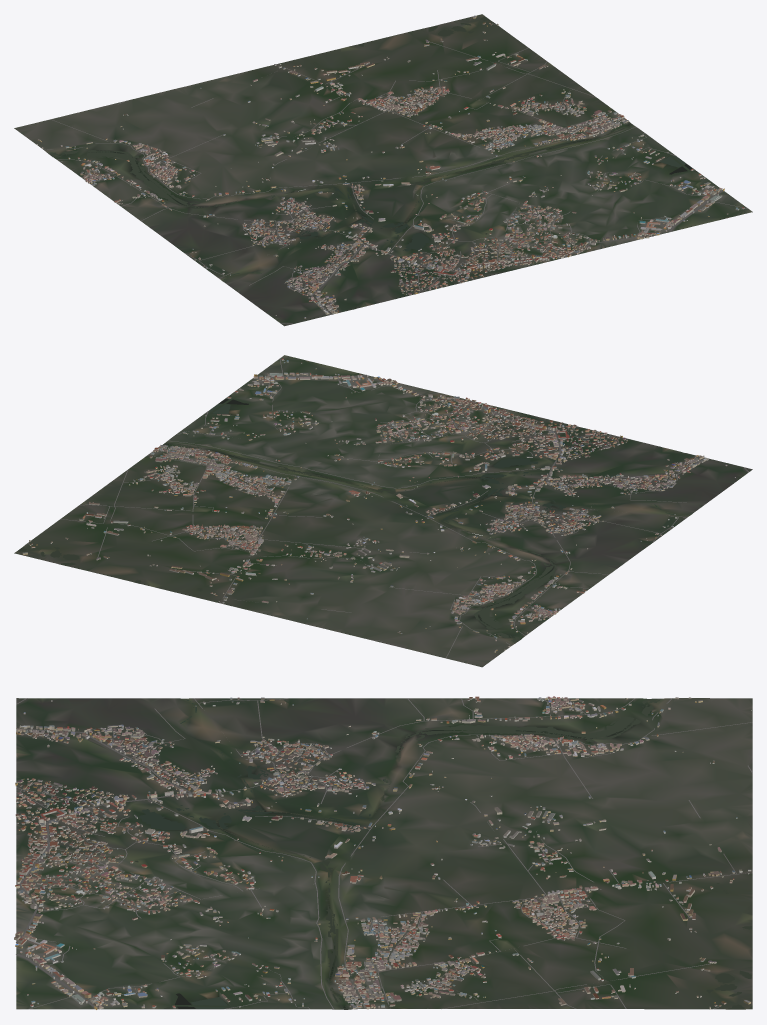
3 views of the same model, one above another, from view 1: azimuth 30°, elevation 25°; view 2: azimuth 150°, elevation 25°; view 3: azimuth 270°, elevation 25° (orthographic). The views are drawn at different scales.
Parts seen in each view (by area): view 1: ground, buildings, roads, water; view 2: ground, buildings, roads, water; view 3: ground, buildings, roads, water.
Boxes of the visible parts, x1,y1,x2,y2 form: ground: [14, 14, 752, 326]; buildings: [33, 15, 744, 318]; roads: [43, 23, 747, 323]; water: [49, 16, 697, 279]; ground: [14, 355, 752, 667]; buildings: [22, 358, 735, 662]; roads: [28, 358, 748, 657]; water: [17, 395, 688, 642]; ground: [16, 698, 752, 1009]; buildings: [14, 696, 751, 1009]; roads: [16, 698, 752, 1009]; water: [135, 698, 752, 1009].
Bounding box in the file's own units: 2816 × 25.27 × 2814.
